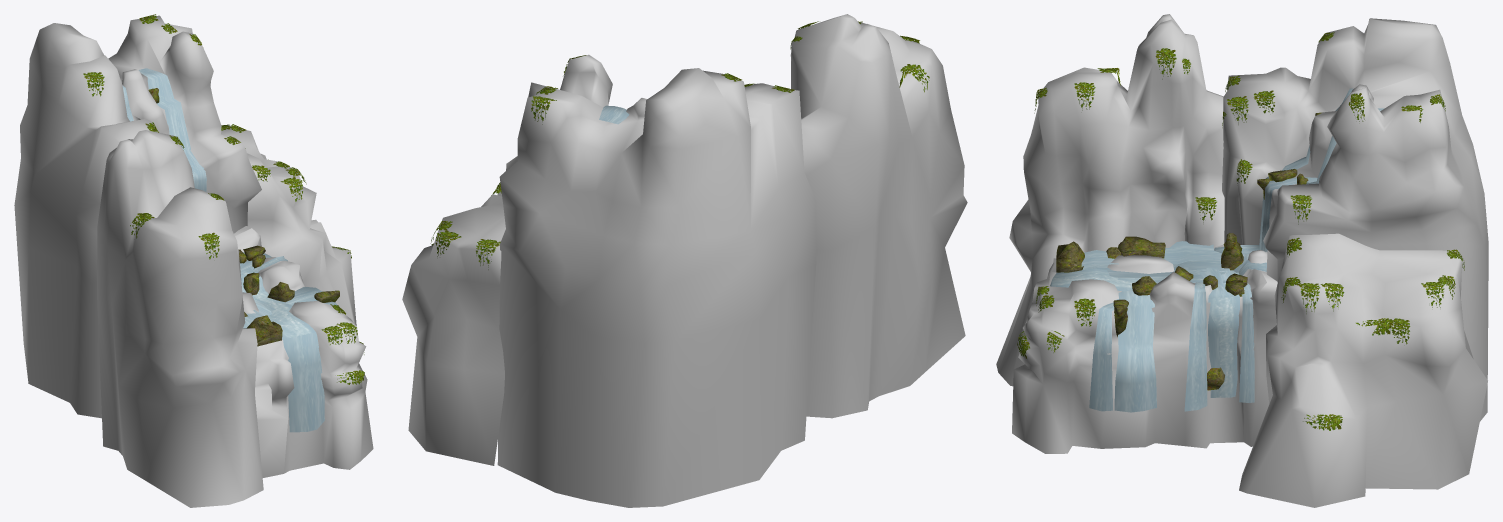
File: zc_shanti.FBX
The picture shows the model from 3 angles, left to right: view 1: azimuth 30°, elevation 25°; view 2: azimuth 150°, elevation 25°; view 3: azimuth 270°, elevation 25°; orthographic projection. The views are drawn at different scales.
Visible parts, largest first — view 1: Group001; view 2: Group001; view 3: Group001.
Part boxes in pixels (x1=…): Group001: x1=14, y1=14, x2=373, y2=507; Group001: x1=402, y1=14, x2=967, y2=507; Group001: x1=996, y1=14, x2=1488, y2=507.
Size of the model in its own units: 678 by 668 by 827.
